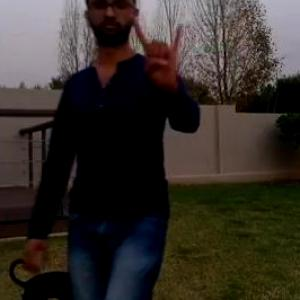takeoff-hand: (134, 16, 187, 94)
